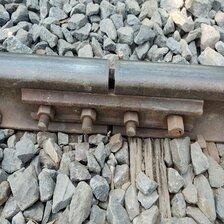railway-gap: (85, 47, 138, 104), (99, 119, 120, 142)
